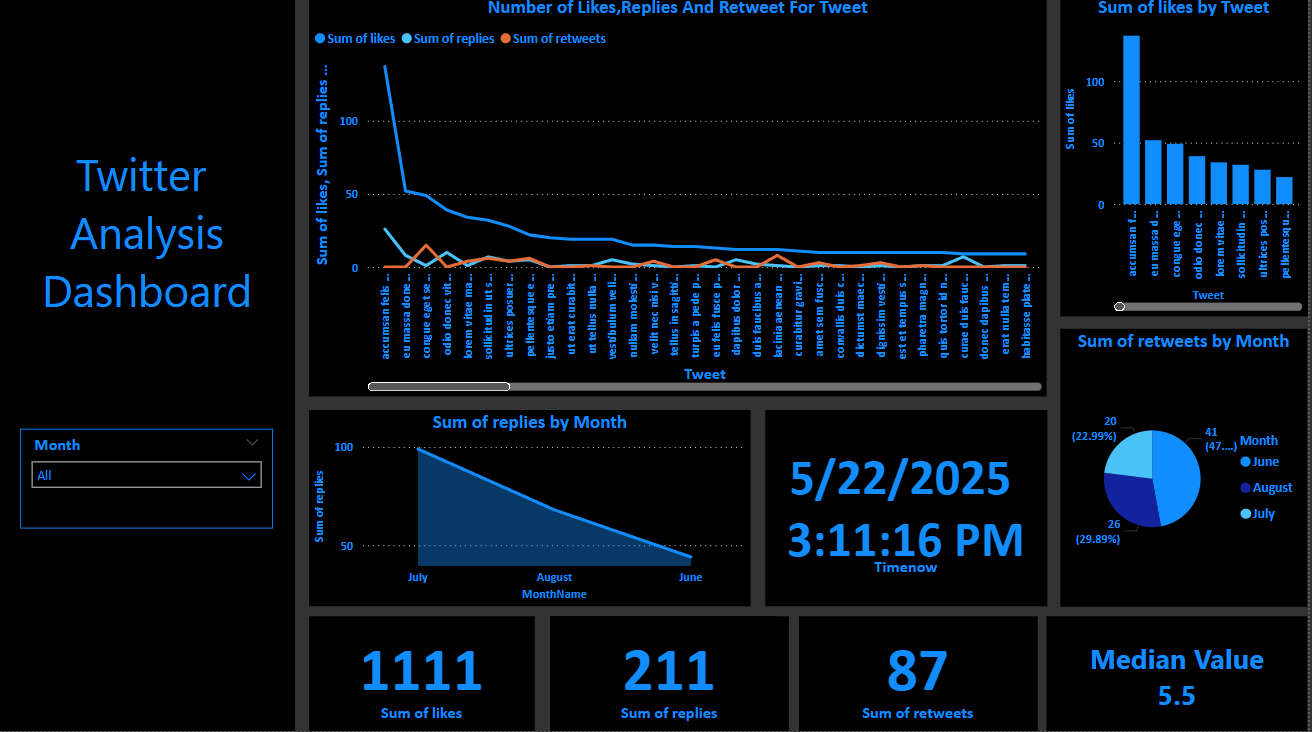

This screenshot's page, from the dashboard's own definition file:
{"tool":"powerbi","page":{"name":"Page 3","canvas":[1280,720],"ordinal":2},"visuals":[{"type":"textbox","box":[0,0,289.5,720.4],"z":0},{"type":"slicer","fields":{"Values":["SocialMedia (3).MonthName"]},"box":[20.6,424,247,97.4],"z":1},{"type":"lineChart","title":"Number of Likes,Replies And Retweet For Tweet","fields":{"Y":["Sum(SocialMedia (3).likes)","Sum(SocialMedia (3).replies)","Sum(SocialMedia (3).retweets)"],"Category":["SocialMedia (3).Tweet"]},"box":[303.3,0,721.5,392.5],"z":2},{"type":"columnChart","fields":{"Category":["SocialMedia (3).Tweet"],"Y":["Sum(SocialMedia (3).likes)"]},"box":[1037.9,0,242.1,314.3],"z":3},{"type":"textbox","box":[1024.8,607.5,255.2,112.5],"z":4},{"type":"card","fields":{"Values":["Sum(SocialMedia (3).likes)"]},"box":[303.3,607.5,220.9,112.5],"z":5},{"type":"card","fields":{"Values":["Sum(SocialMedia (1).replies)"]},"box":[539.3,607.5,220.9,112.5],"z":6},{"type":"card","fields":{"Values":["Sum(SocialMedia (3).replies)"]},"box":[539.3,607.9,233.3,112.5],"z":7},{"type":"card","fields":{"Values":["Sum(SocialMedia (3).retweets)"]},"box":[782.2,607.5,233.3,112.5],"z":8},{"type":"stackedAreaChart","title":"Sum of replies by Month","fields":{"Y":["Sum(SocialMedia (3).replies)"],"Category":["SocialMedia (3).MonthName"]},"box":[303.3,406.2,432.2,192.1],"z":9},{"type":"pieChart","title":"Sum of retweets by Month","fields":{"Category":["SocialMedia (3).MonthName"],"Y":["Sum(SocialMedia (3).retweets)"]},"box":[1038.5,326.6,241.5,271.7],"z":10},{"type":"card","fields":{"Values":["SocialMedia (3).present"]},"box":[749.2,406.2,275.8,192.1],"z":11}]}

Visuals, with their boxes in screenshot pixels (x1, y1, x2, y2), scaled from the page's 1280x720 canvas onto the 1312x732 screenshot:
textbox: 0 0 297 731
slicer - SocialMedia (3).MonthName: 21 431 274 530
"Number of Likes,Replies And Retweet For Tweet" lineChart: 311 0 1050 399
columnChart - SocialMedia (3).Tweet x Sum(SocialMedia (3).likes): 1064 0 1311 320
textbox: 1050 618 1311 731
card - Sum(SocialMedia (3).likes): 311 618 537 731
card - Sum(SocialMedia (1).replies): 553 618 779 731
card - Sum(SocialMedia (3).replies): 553 618 792 731
card - Sum(SocialMedia (3).retweets): 802 618 1041 731
"Sum of replies by Month" stackedAreaChart: 311 413 754 608
"Sum of retweets by Month" pieChart: 1064 332 1311 608
card - SocialMedia (3).present: 768 413 1051 608
